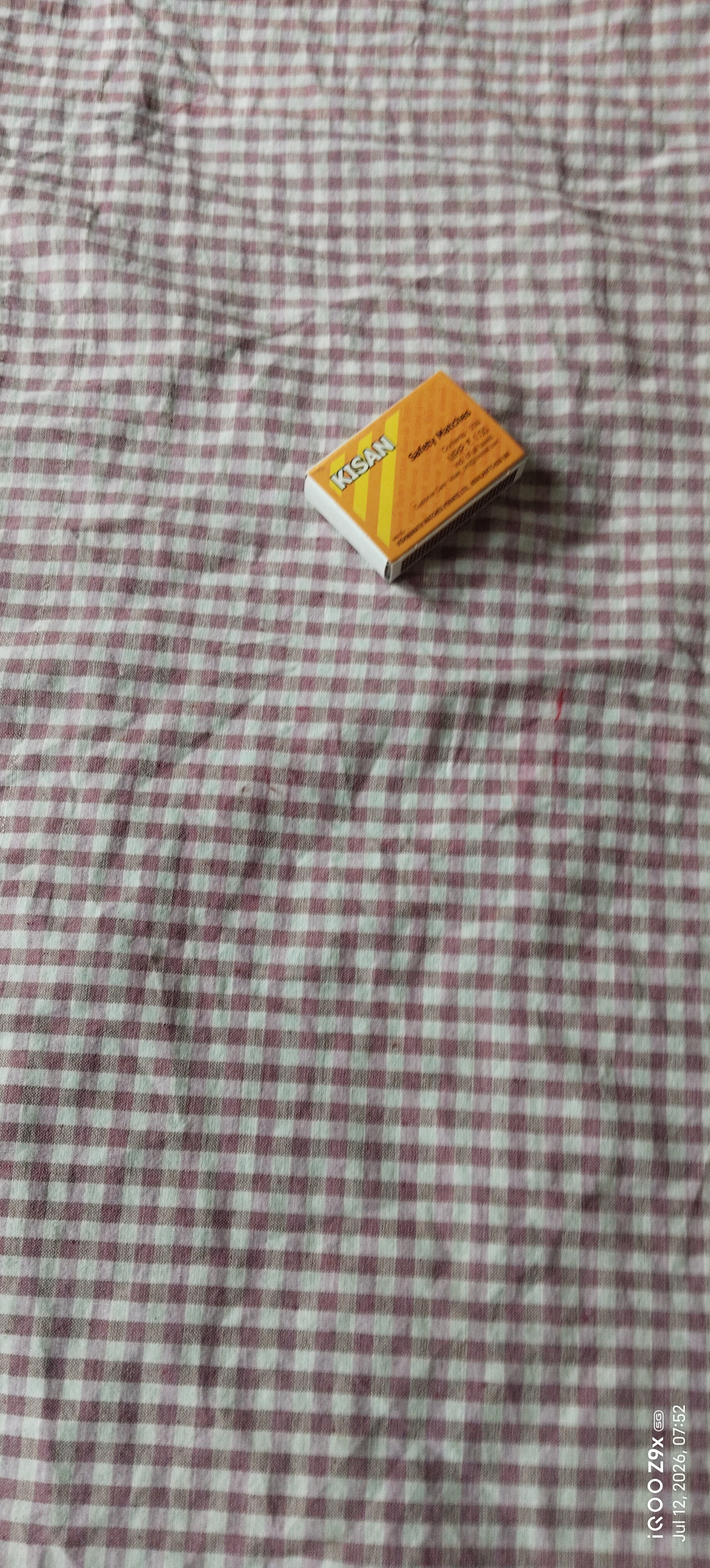matchbox: (272, 319, 553, 629)
